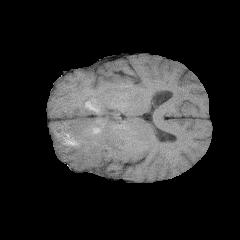glioma: (52, 96, 132, 169)
